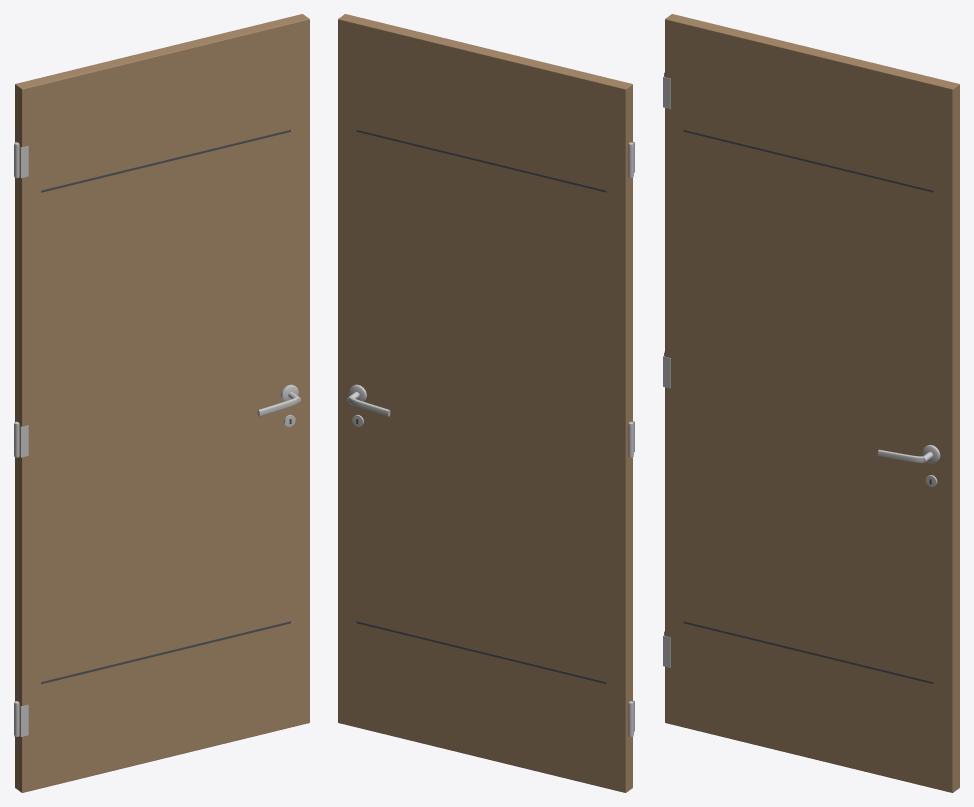
The model's file is Door.fbx.
The picture shows the model from 3 angles, left to right: view 1: azimuth 30°, elevation 25°; view 2: azimuth 150°, elevation 25°; view 3: azimuth 330°, elevation 25°; orthographic projection.
Parts seen in each view (by area): view 1: DoorLeaf; view 2: DoorLeaf; view 3: DoorLeaf.
Boxes of the visible parts, x1,y1,x2,y2 form: DoorLeaf: (14,14,309,792); DoorLeaf: (338,14,634,792); DoorLeaf: (663,14,959,792).
Size of the model in its own units: 0.908 by 2.09 by 0.171.
